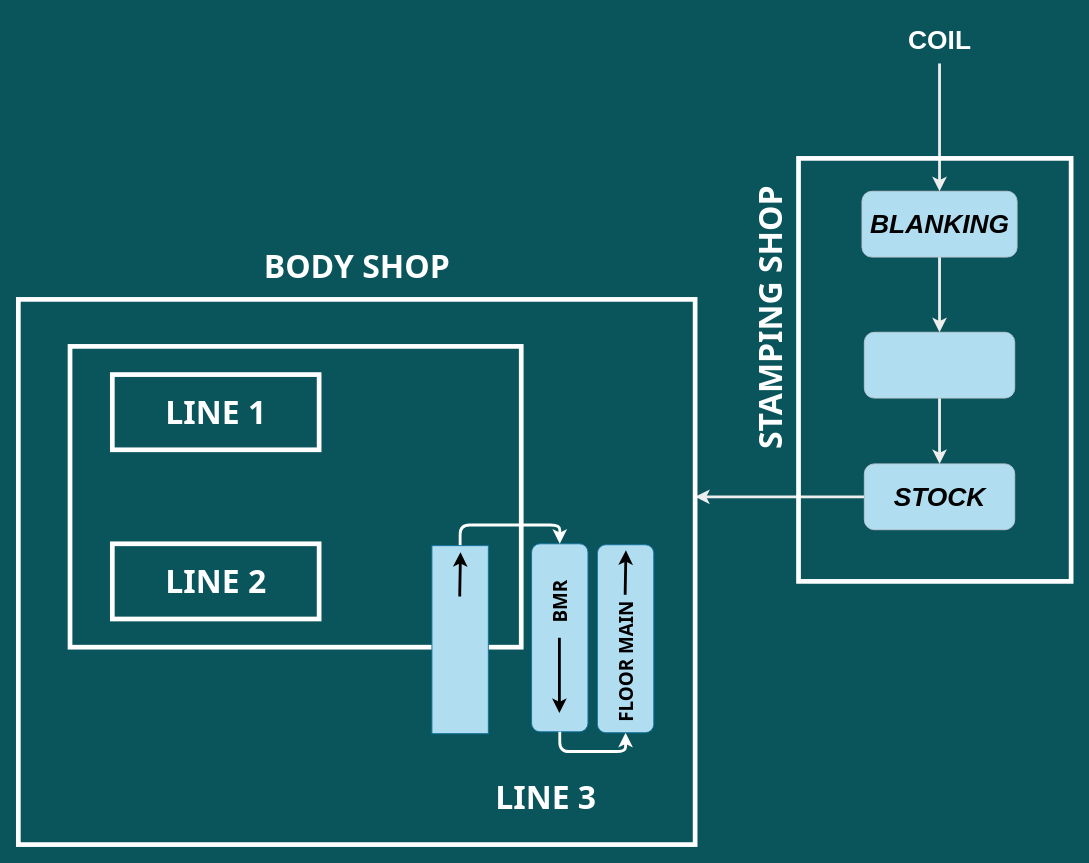
Image size: 1089x863. Some labels were removed from this diagram. The shapes that lost their labels are listed below. From the top down, each one's centre as x and y in pixels, then its label:
the point at 939,364: PRESS
the point at 459,639: METAL LINE
